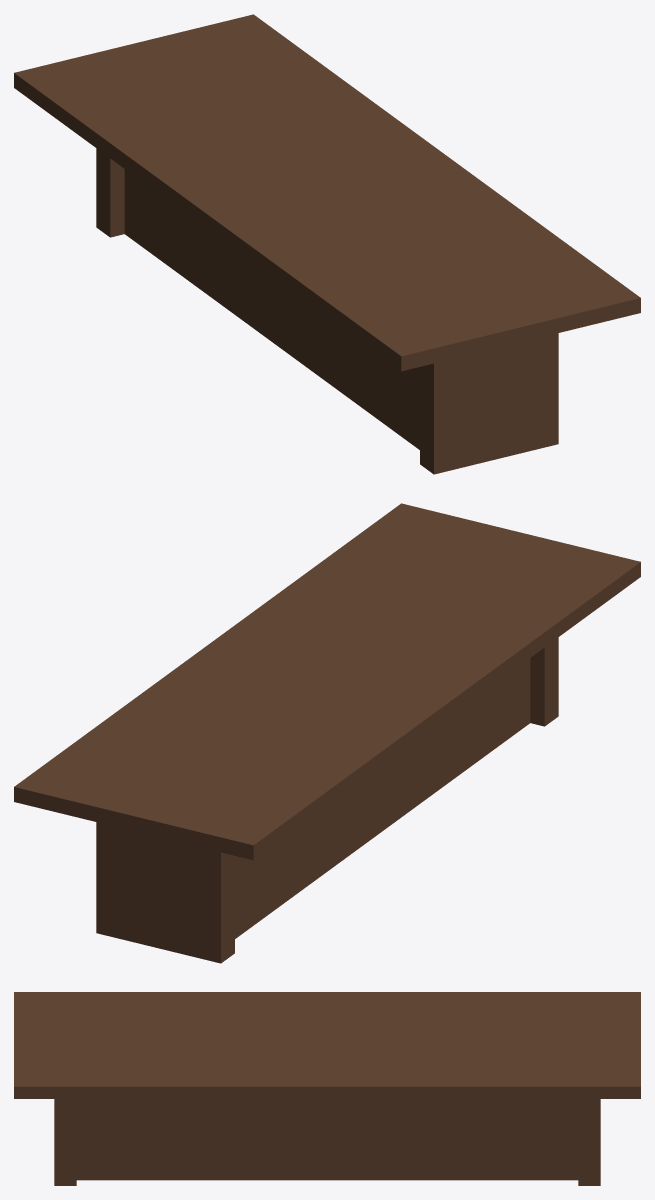
Rendered from table_meeting_01.dae.
The picture shows the model from 3 angles, top to bottom: view 1: azimuth 30°, elevation 25°; view 2: azimuth 150°, elevation 25°; view 3: azimuth 270°, elevation 25°; orthographic projection. The views are drawn at different scales.
Parts seen in each view (by area): view 1: Untitled; view 2: Untitled; view 3: Untitled.
Part boxes in pixels (x1,y1,x2,y2): Untitled: (14, 14, 640, 474); Untitled: (14, 503, 640, 963); Untitled: (14, 992, 640, 1185).
Bounding box in the file's own units: 1.5 × 4.2 × 0.9.
1 material, 1 textured.
